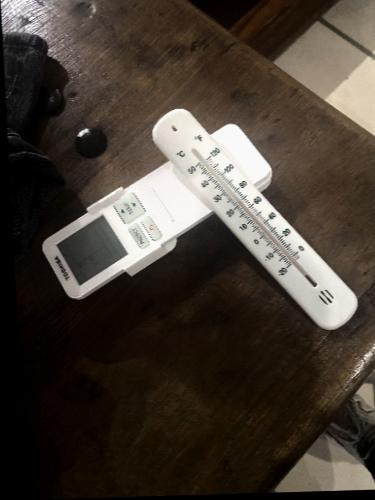thermo: (148, 103, 361, 329)
